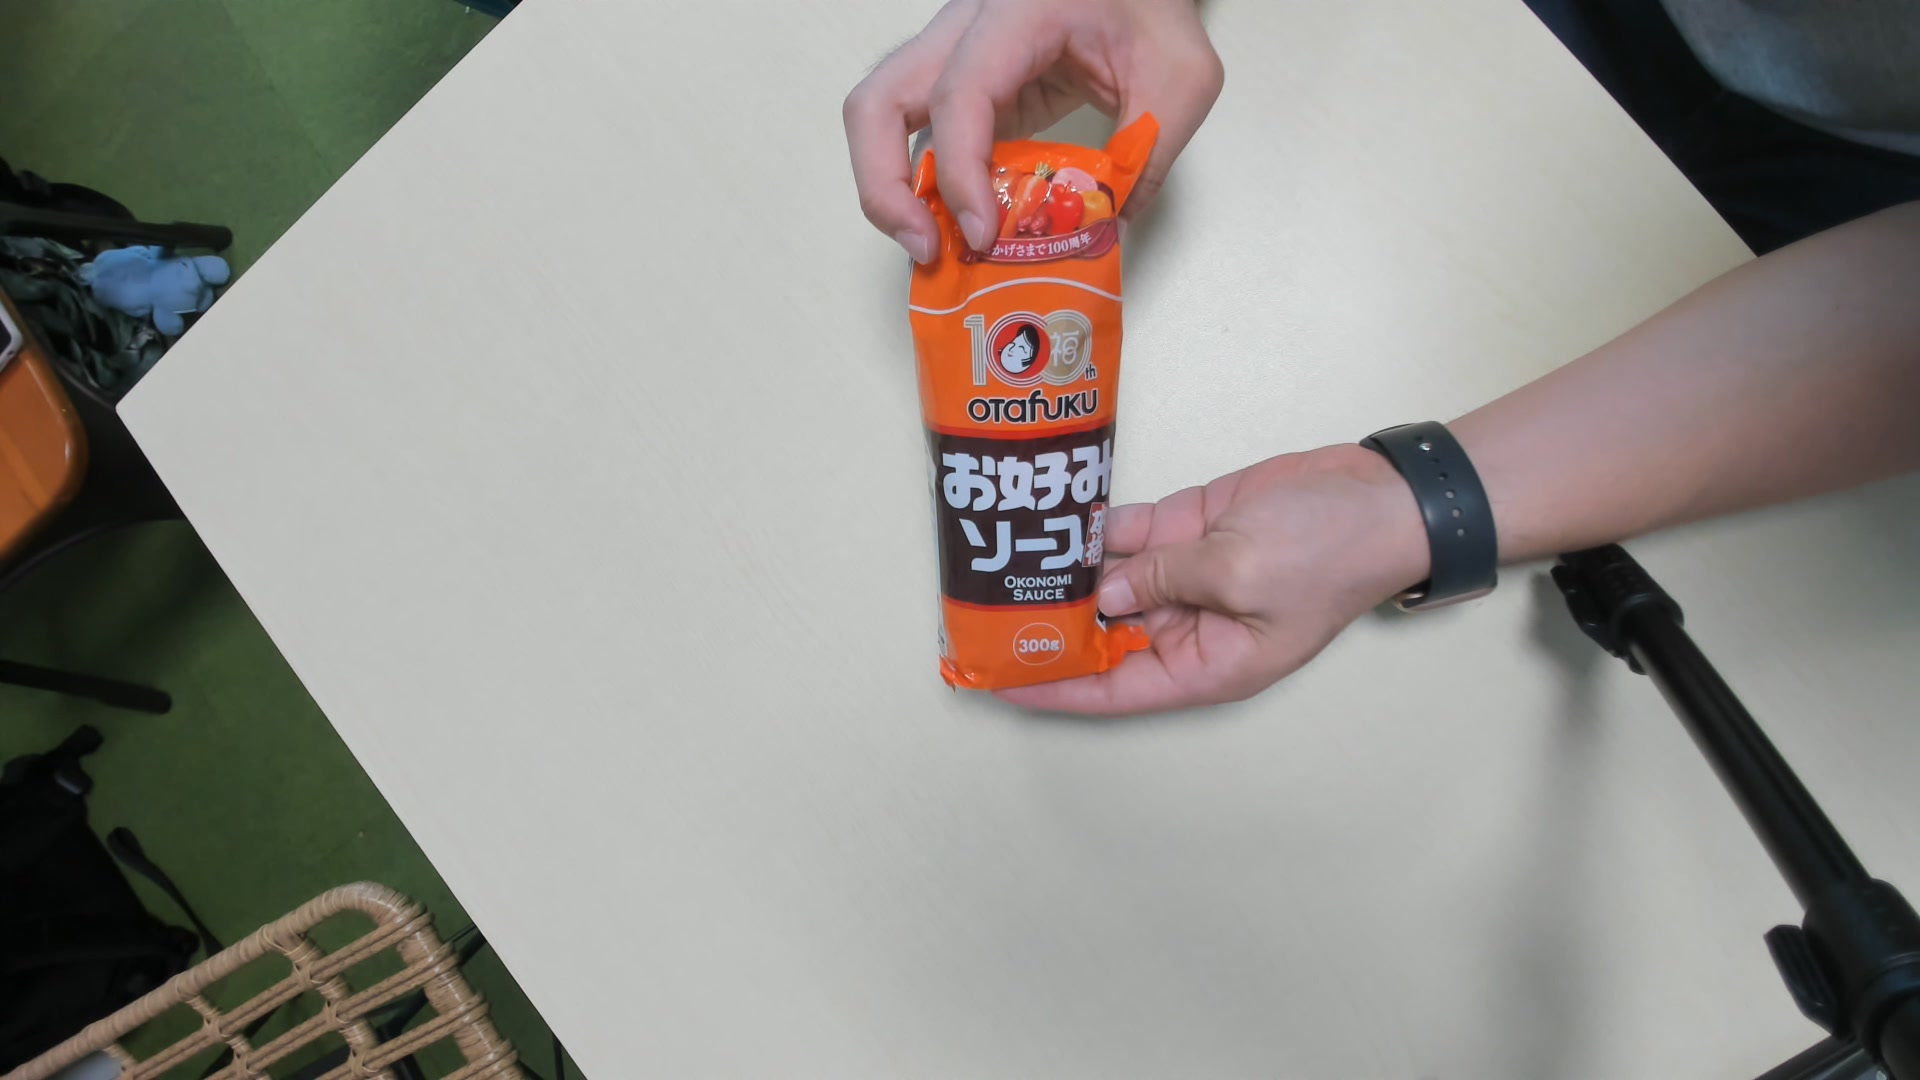OtherSauceDressing_300-399g_NonHalal_NonHealthy: (909, 127, 1139, 698)
